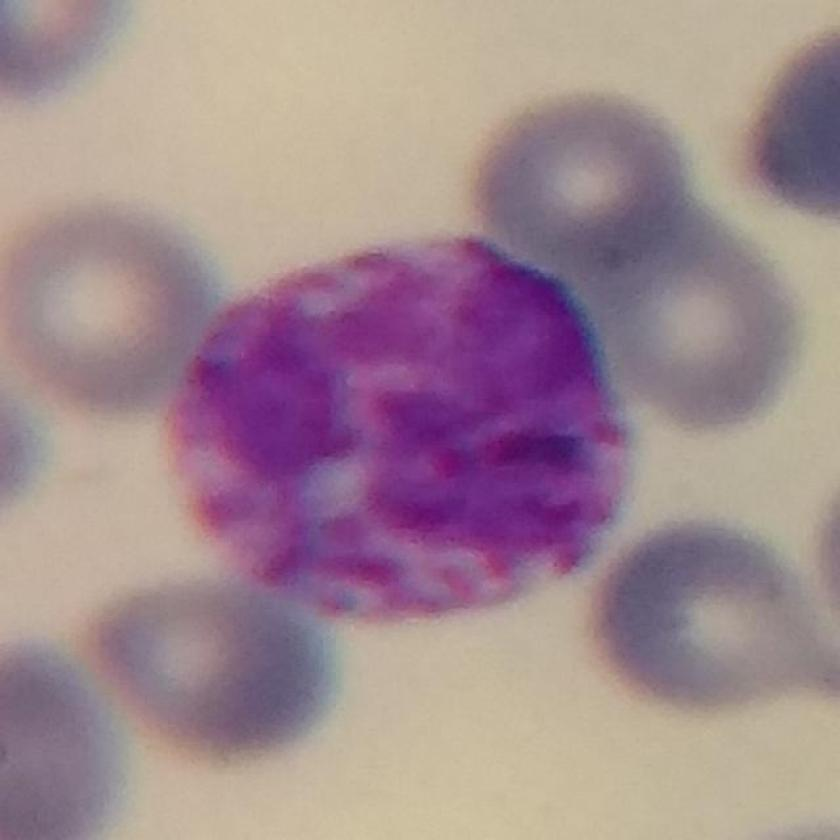basophil: (163, 227, 644, 630)
